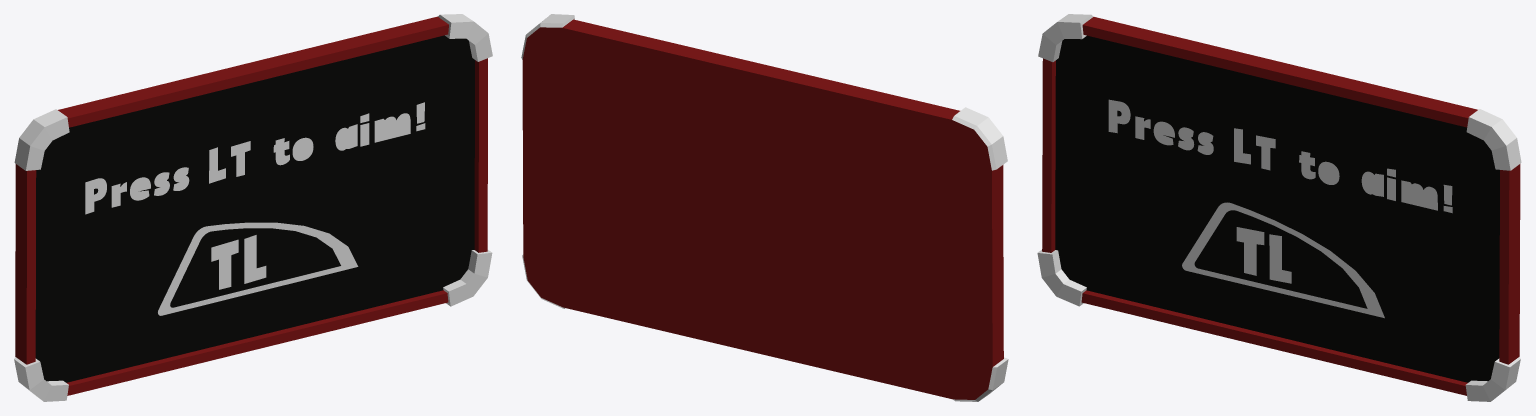
File: Tuto7-XB.FBX
The picture shows the model from 3 angles, left to right: view 1: azimuth 30°, elevation 25°; view 2: azimuth 150°, elevation 25°; view 3: azimuth 330°, elevation 25°; orthographic projection.
Parts seen in each view (by area): view 1: Pizarra 9, Text029, Shape017, Shape019, Shape018; view 2: Pizarra 9; view 3: Pizarra 9, Text029, Shape017, Shape019, Shape018.
Part boxes in pixels (x1,y1,x2,y2): Pizarra 9: (14,14,492,401); Text029: (85,102,425,214); Shape017: (158,222,358,315); Shape019: (211,239,238,289); Shape018: (244,235,266,283); Pizarra 9: (521,14,1008,401); Pizarra 9: (1037,14,1521,401); Text029: (1108,99,1452,213); Shape017: (1182,202,1384,318); Shape019: (1236,227,1264,275); Shape018: (1269,234,1291,283).
Bounding box in the file's own units: 77.68 × 44.99 × 4.52.
